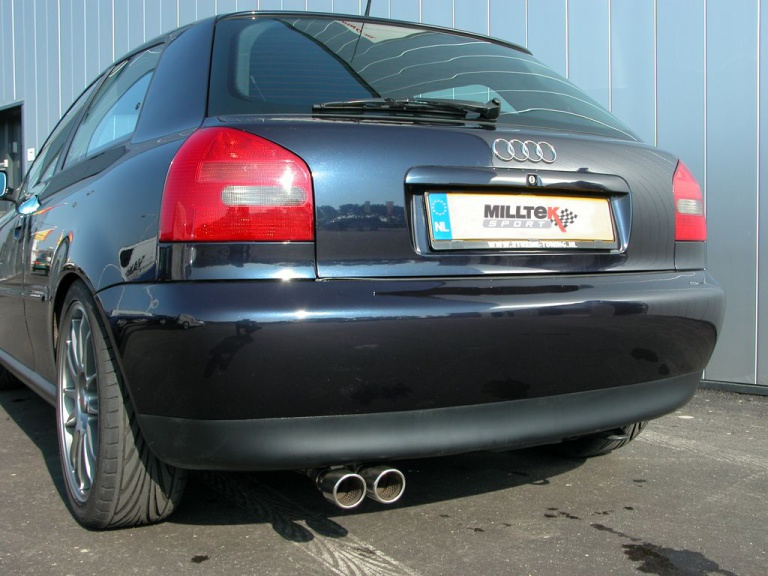audi: (484, 135, 563, 168)
